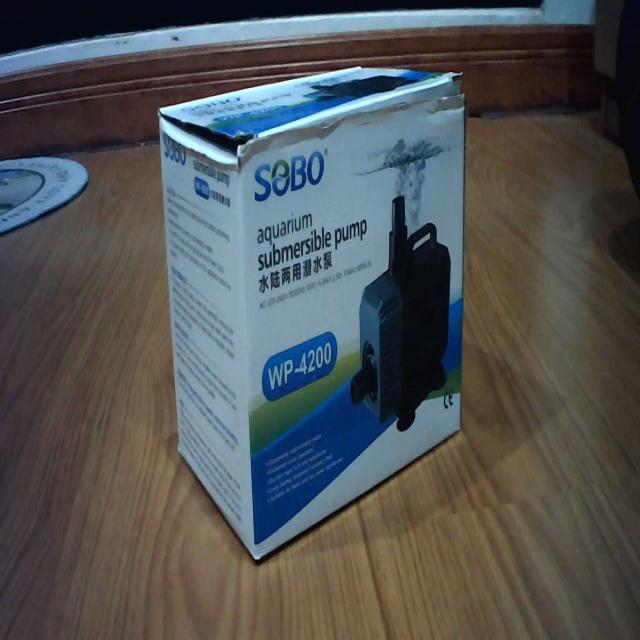SOBO_WP_4200: (157, 56, 471, 565)
